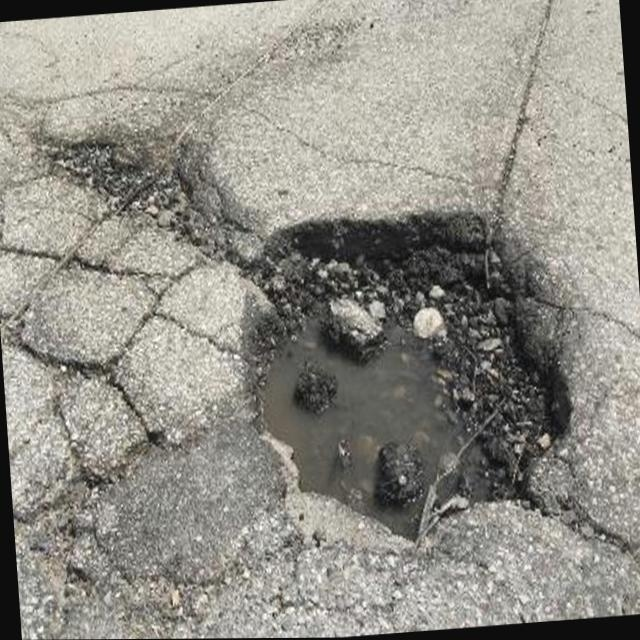pothole: (234, 197, 589, 552)
